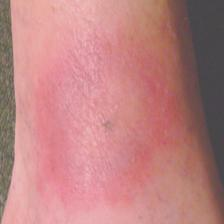Tick: (31, 39, 172, 207), (57, 204, 66, 209)
